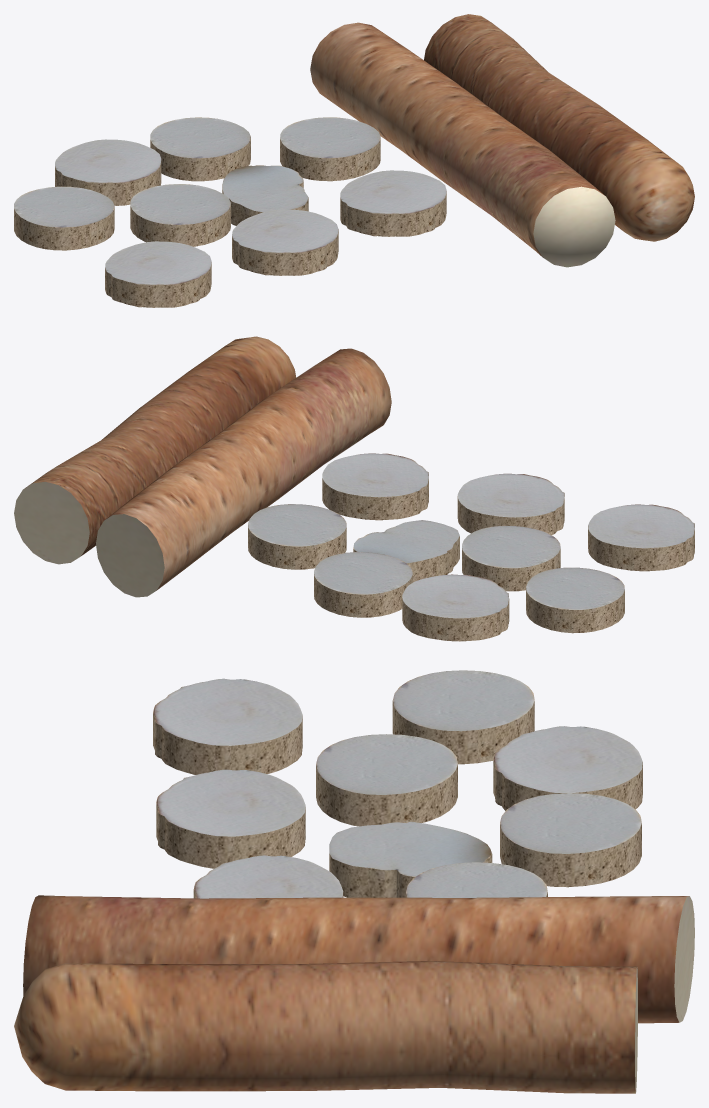
The model's file is shanyao.FBX.
3 views of the same model, one above another, from view 1: azimuth 30°, elevation 25°; view 2: azimuth 150°, elevation 25°; view 3: azimuth 270°, elevation 25° (orthographic). The views are drawn at different scales.
Visible parts, largest first — view 1: Cylinder001, Cylinder002, Line003, Line004, Line005, Circle003, Circle004, Circle002, Circle001, Line001, Line002; view 2: Cylinder001, Cylinder002, Line001, Line005, Line004, Circle003, Circle004, Circle001, Line003, Circle002, Line002; view 3: Cylinder002, Cylinder001, Line005, Line003, Circle002, Circle001, Circle003, Line001, Line002, Line004, Circle004.
Part boxes in pixels (box(x1,y1,x2,y2)): Cylinder001: box(310, 22, 615, 267); Cylinder002: box(424, 14, 694, 241); Line003: box(232, 209, 338, 275); Line004: box(340, 170, 446, 236); Line005: box(105, 241, 211, 307); Circle003: box(14, 186, 114, 250); Circle004: box(280, 117, 380, 181); Circle002: box(130, 184, 230, 246); Circle001: box(150, 117, 250, 181); Line001: box(55, 139, 161, 205); Line002: box(222, 165, 308, 225); Cylinder001: box(96, 348, 391, 597); Cylinder002: box(14, 336, 296, 564); Line001: box(402, 574, 509, 641); Line005: box(588, 504, 694, 571); Line004: box(322, 453, 428, 520); Circle003: box(526, 567, 624, 633); Circle004: box(248, 504, 346, 569); Circle001: box(314, 552, 412, 617); Line003: box(457, 473, 564, 534); Circle002: box(462, 525, 560, 591); Line002: box(353, 520, 459, 582); Cylinder002: box(14, 961, 637, 1093); Cylinder001: box(23, 895, 694, 1023); Line005: box(153, 678, 302, 774); Line003: box(156, 769, 305, 868); Circle002: box(316, 734, 457, 826); Circle001: box(500, 793, 641, 887); Circle003: box(392, 670, 534, 764); Line001: box(493, 726, 642, 810); Line002: box(329, 821, 492, 897); Line004: box(193, 855, 343, 898); Circle004: box(406, 862, 547, 897).
Bounding box in the file's own units: 42.85 × 6.17 × 32.28.
